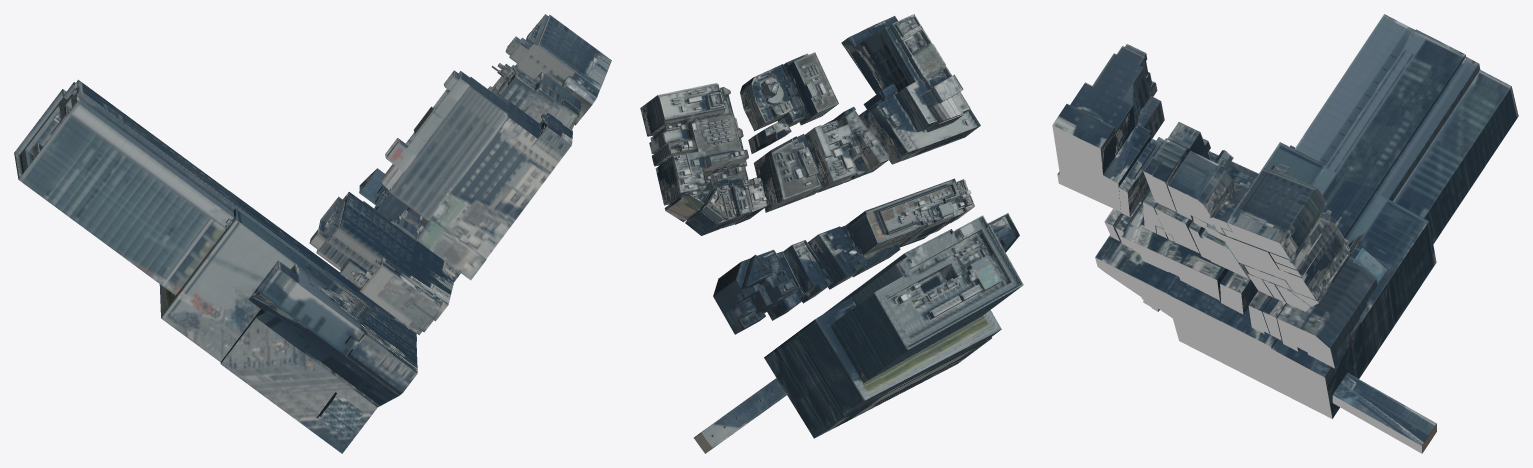
File: l2_data502.glb
3 views of the same model, side by side, from view 1: azimuth 30°, elevation 25°; view 2: azimuth 150°, elevation 25°; view 3: azimuth 270°, elevation 25° (orthographic). The views are drawn at different scales.
Size of the model in its own units: 267 by 206 by 233.
2 materials, 1 textured.
